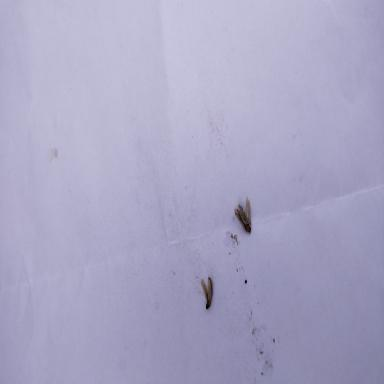pbw: (233, 196, 251, 233), (201, 274, 213, 310)
